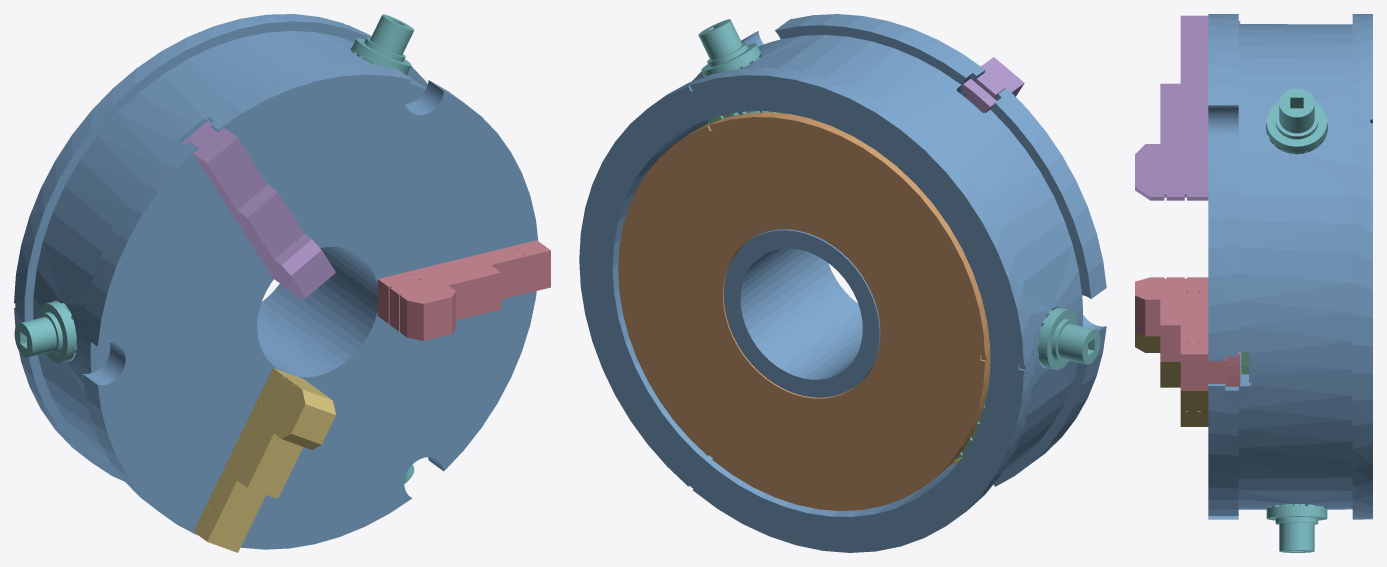
The picture shows the model from 3 angles, left to right: view 1: azimuth 30°, elevation 25°; view 2: azimuth 150°, elevation 25°; view 3: azimuth 270°, elevation 25°; orthographic projection.
Visible parts, largest first — view 1: body_0_0, jaw_3_5_0, jaw_1_3_0, jaw_2_4_0, pinion_7_0, pinion_6_0; view 2: body_0_0, cover_1_0, pinion_7_0, pinion_6_0, jaw_2_4_0; view 3: body_0_0, jaw_2_4_0, jaw_1_3_0, pinion_6_0, pinion_8_0, jaw_3_5_0.
Part boxes in pixels (x1,y1,x2,y2): body_0_0: [14, 14, 538, 549]; jaw_3_5_0: [193, 368, 335, 552]; jaw_1_3_0: [377, 240, 550, 340]; jaw_2_4_0: [182, 121, 335, 299]; pinion_7_0: [14, 301, 76, 363]; pinion_6_0: [352, 14, 414, 74]; body_0_0: [579, 14, 1106, 552]; cover_1_0: [618, 112, 990, 511]; pinion_7_0: [1038, 308, 1100, 370]; pinion_6_0: [698, 19, 778, 116]; jaw_2_4_0: [960, 57, 1024, 112]; body_0_0: [1208, 14, 1372, 519]; jaw_2_4_0: [1135, 15, 1240, 200]; jaw_1_3_0: [1135, 277, 1240, 390]; pinion_6_0: [1266, 88, 1327, 154]; pinion_8_0: [1266, 504, 1327, 552]; jaw_3_5_0: [1135, 332, 1208, 426].
Size of the model in its own units: 213 by 203 by 94.
